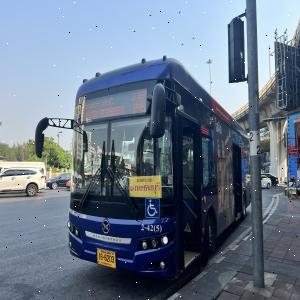Bus Line Number: (130, 86, 148, 119)
Bus Side Number: (138, 221, 163, 233)
Destination Sign: (81, 94, 125, 120), (129, 176, 162, 196)
TSB-Bus: (67, 57, 248, 282)
